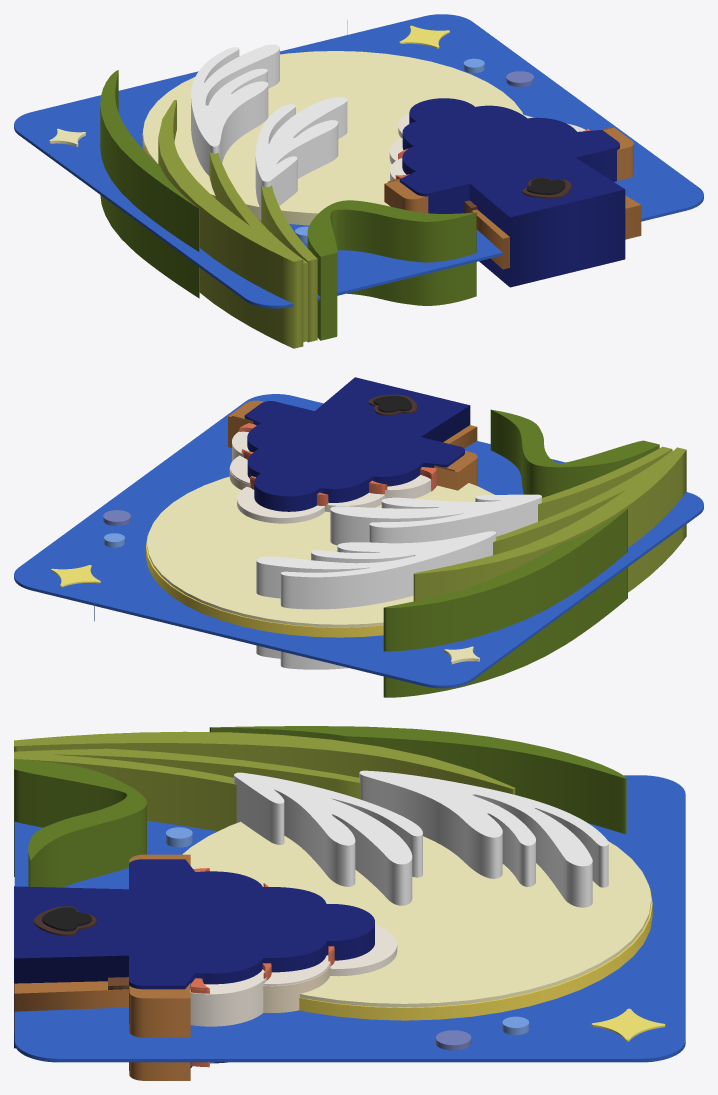
Rendered from emoji_u1f391.glb.
3 views of the same model, one above another, from view 1: azimuth 30°, elevation 25°; view 2: azimuth 150°, elevation 25°; view 3: azimuth 270°, elevation 25° (orthographic). The views are drawn at different scales.
Parts seen in each view (by area): view 1: emoji_u1f391; view 2: emoji_u1f391; view 3: emoji_u1f391.
Boxes of the visible parts, <box> form: emoji_u1f391: <box>14,14,703,348</box>; emoji_u1f391: <box>14,377,703,697</box>; emoji_u1f391: <box>14,726,685,1080</box>.
Bounding box in the file's own units: 0.0339 × 0.0066 × 0.0348.
